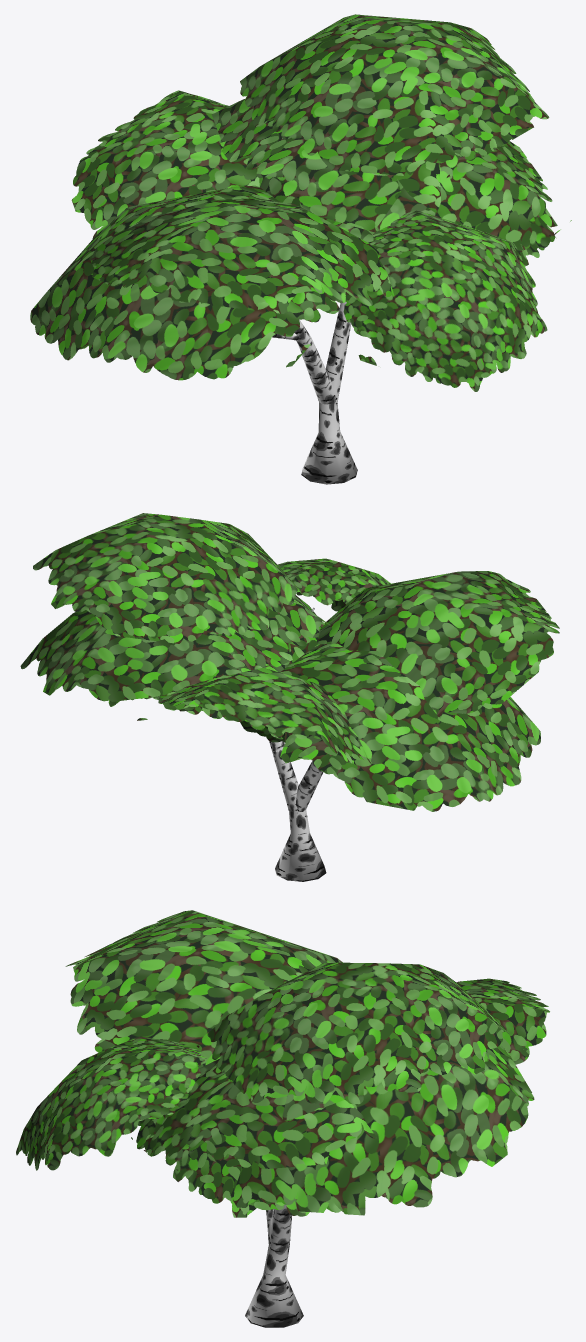
The model's file is Birch.fbx.
3 renders of one model, top to bottom at view 1: azimuth 30°, elevation 25°; view 2: azimuth 150°, elevation 25°; view 3: azimuth 270°, elevation 25°, orthographic. The views are drawn at different scales.
Visible parts, largest first — view 1: Plane.002; view 2: Plane.002; view 3: Plane.002.
Part boxes in pixels (box(x1,y1,x2,y2)): Plane.002: box(30, 14, 571, 484); Plane.002: box(20, 513, 559, 881); Plane.002: box(16, 910, 549, 1327).
Bounding box in the file's own units: 19.79 × 14.58 × 18.9.
